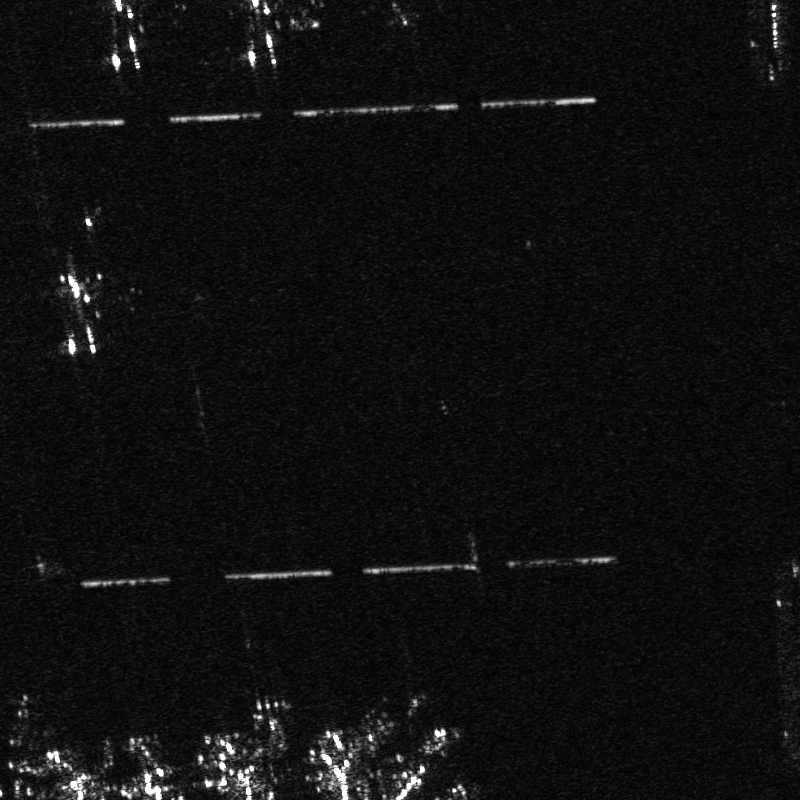A320/321: (241, 693, 297, 745)
other: (41, 271, 114, 358)
